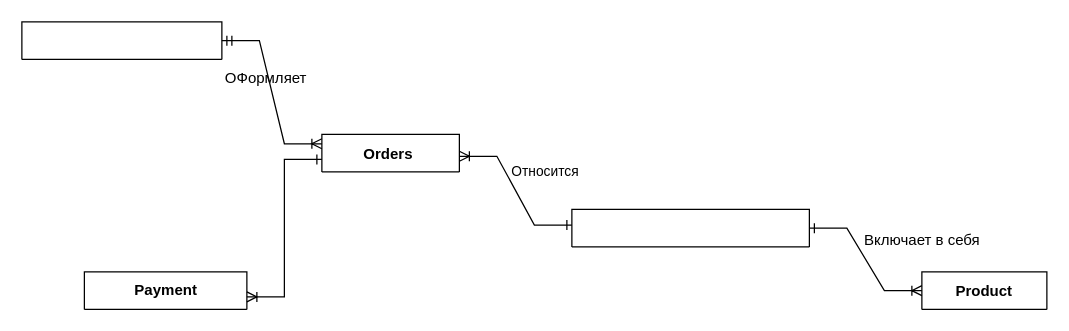
Image size: 1069x331. Some labels were removed from this diagram. Each missing label, with the centre of its shape:
Buyer: (121,40)
PurchareGroup: (690,227)
